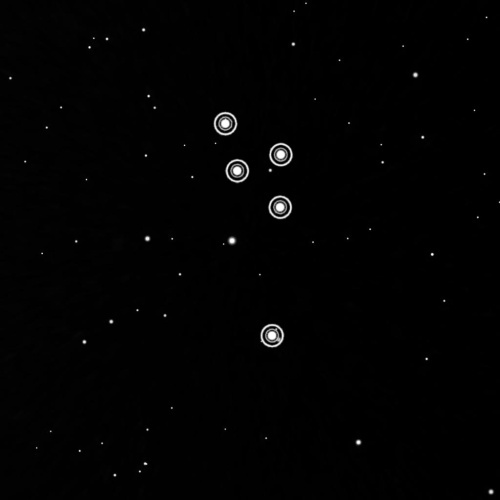delphinus: (203, 99, 296, 355)
